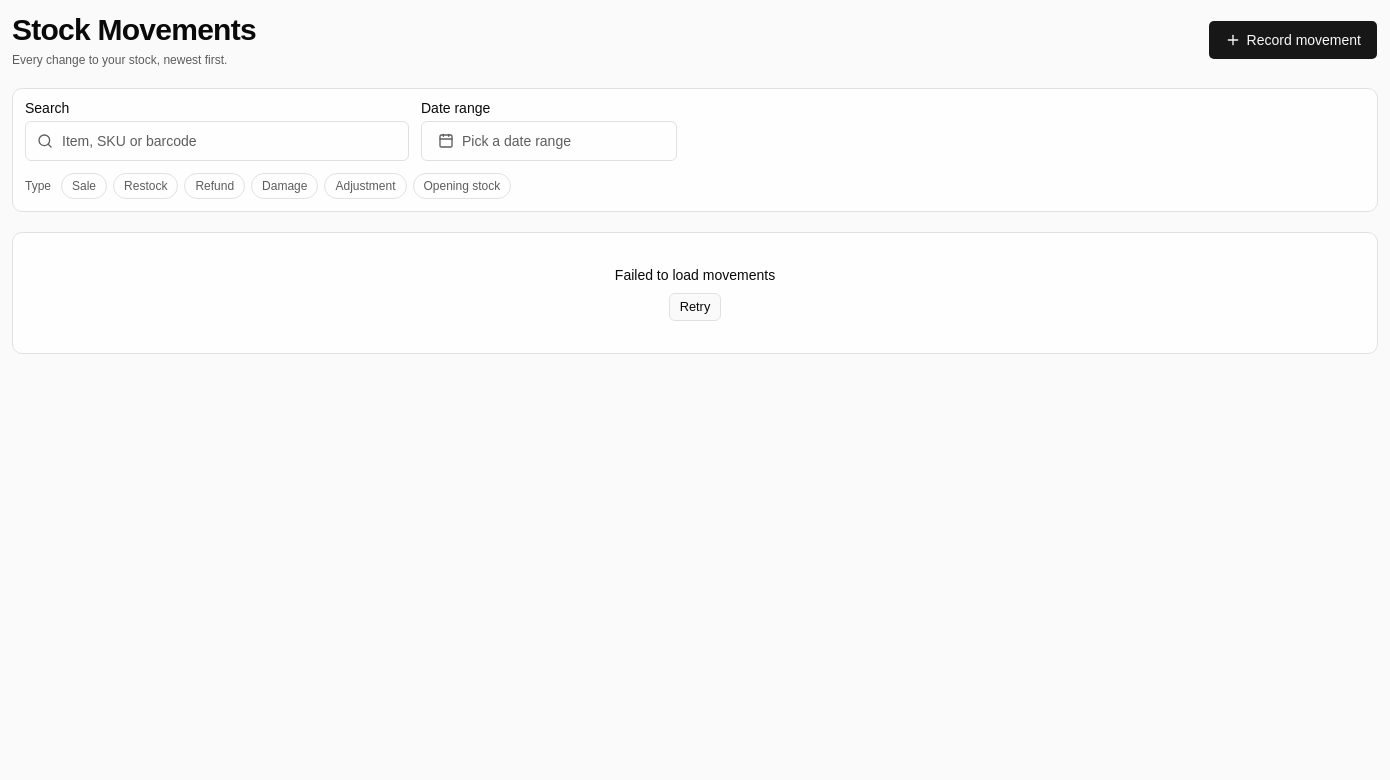
Test: StockMovementPage › shows the error state and retries
This screenshot has width=1390, height=780.
Expected: the text "Failed to load movements" is shown, [615,265,775,285]
Click the button "Retry" at (695, 307), box [669,293,721,321]
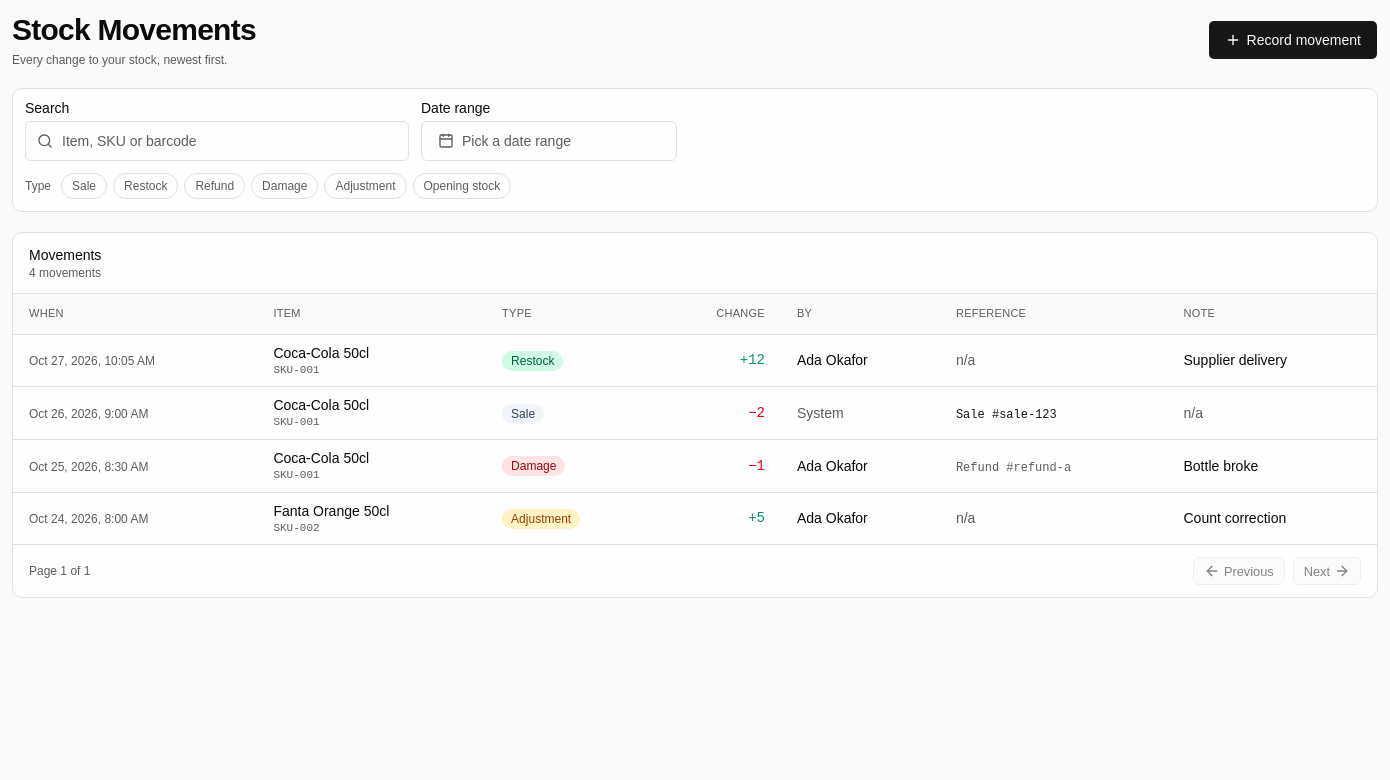
Now the text "4 movements" is shown, box [29,265,101,281]
